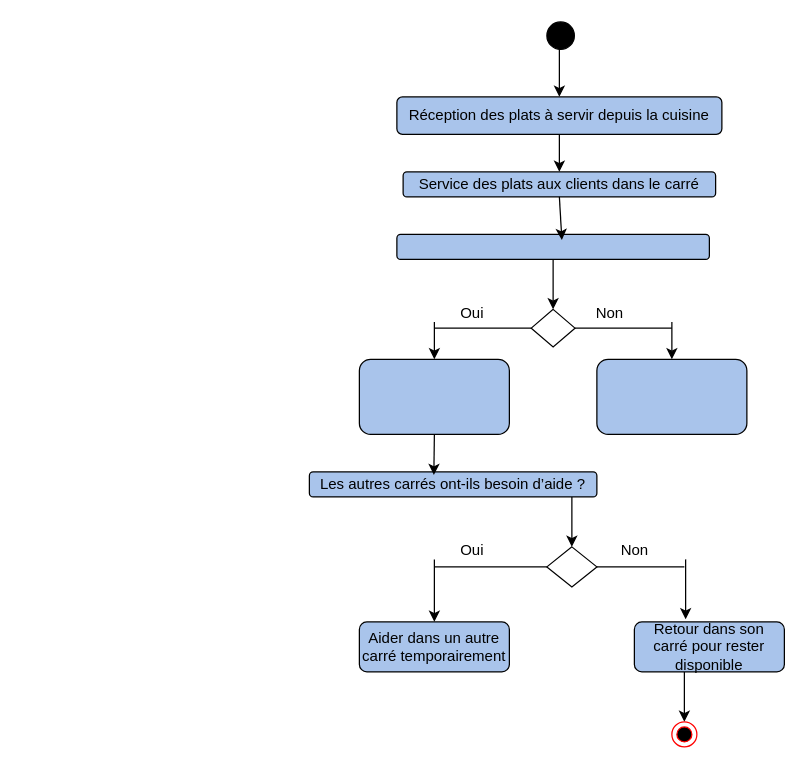
This 806x769 diagram has some shape labels left out. The shapes that lost their labels are listed below. From the top down, each one's box as (x1, y1, x2, y2) in pixels, then its label:
(396, 233, 709, 259): Les clients ont-ils terminé leur plat ?
(358, 358, 509, 434): Ramassage de la vaisselle et transport au comptoir des objets sales
(596, 358, 747, 434): Surveillance discrète des besoins des clients
